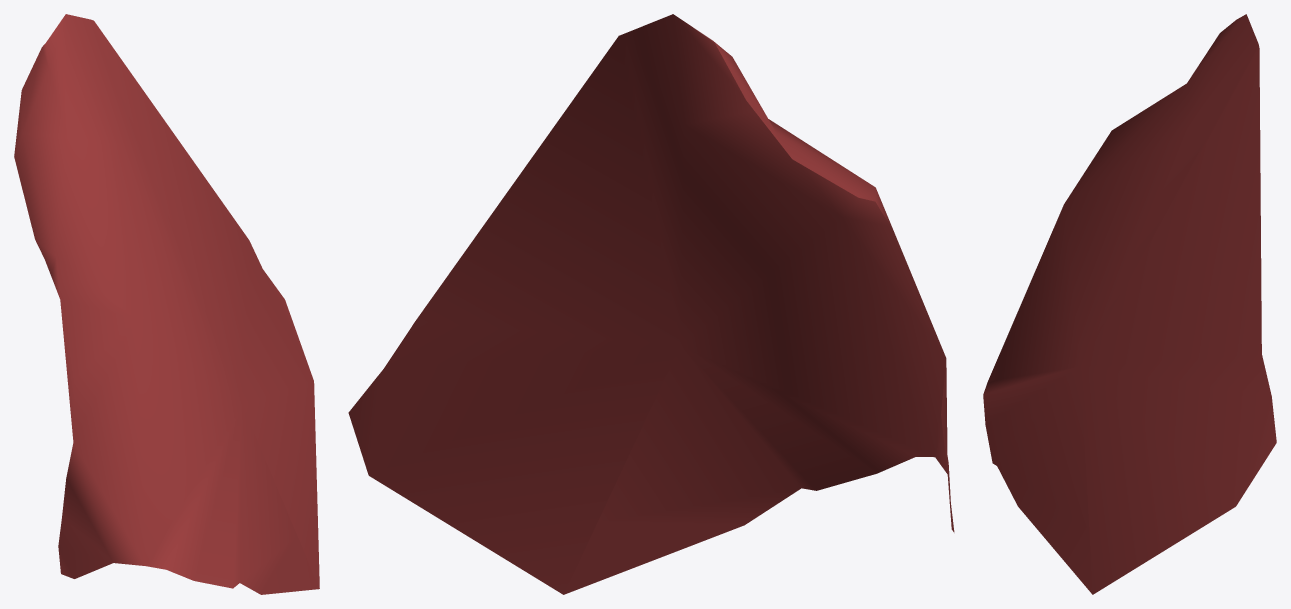
The model's file is medial-pterygoid-muscle-ol.glb.
3 views of the same model, side by side, from view 1: azimuth 30°, elevation 25°; view 2: azimuth 150°, elevation 25°; view 3: azimuth 270°, elevation 25° (orthographic). The views are drawn at different scales.
Visible parts, largest first — view 1: Medial pterygoid muscle.ol; view 2: Medial pterygoid muscle.ol; view 3: Medial pterygoid muscle.ol.
Boxes of the visible parts, bbox=[...] form: Medial pterygoid muscle.ol: bbox=[14, 14, 319, 594]; Medial pterygoid muscle.ol: bbox=[348, 14, 954, 594]; Medial pterygoid muscle.ol: bbox=[983, 14, 1276, 594].
Size of the model in its own units: 0.0144 by 0.0216 by 0.0114.
